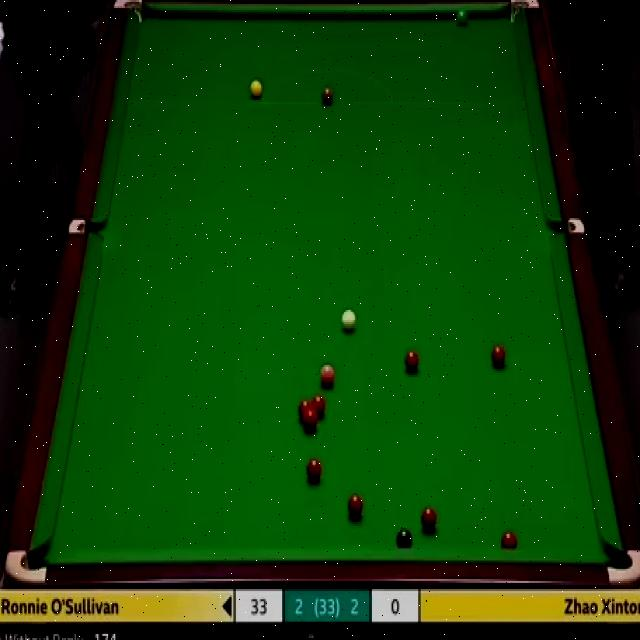black-ball: (398, 527, 413, 550)
brown-ball: (321, 83, 333, 104)
green-ball: (456, 6, 466, 25)
pink-ball: (320, 362, 336, 388)
red-ball: (420, 507, 438, 535), (349, 492, 365, 520), (306, 458, 323, 484), (404, 348, 422, 371), (490, 344, 505, 370), (298, 399, 312, 425), (312, 395, 326, 419), (304, 412, 318, 432), (501, 531, 518, 547)
white-ball: (342, 308, 358, 330)
yellow-ball: (249, 82, 262, 98)
